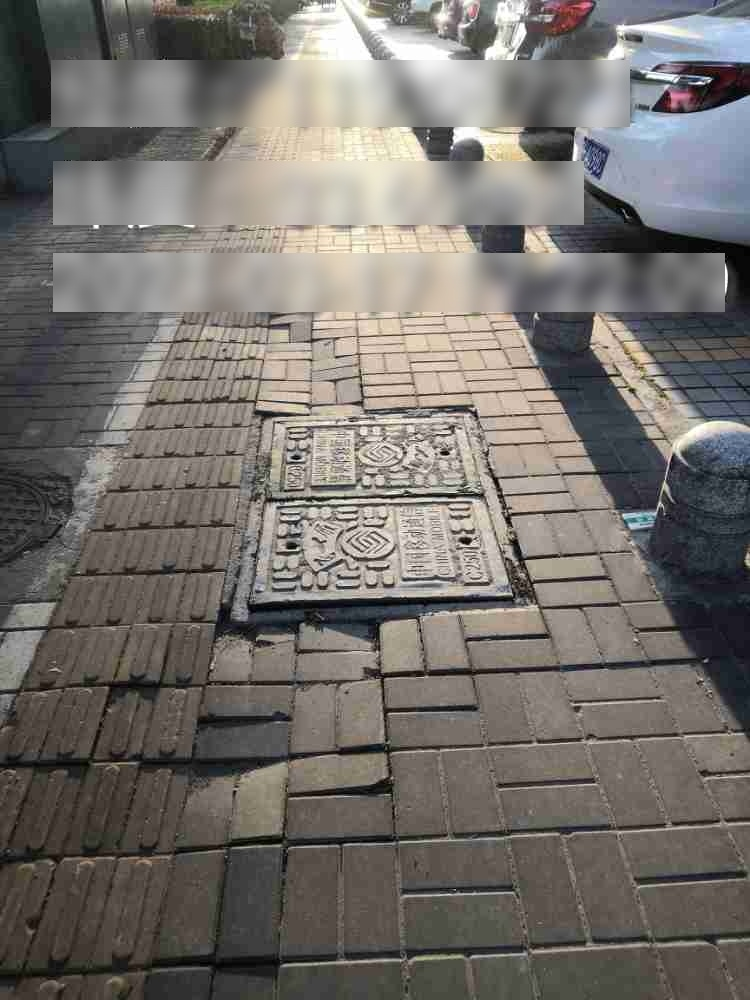good: (228, 413, 530, 619)
